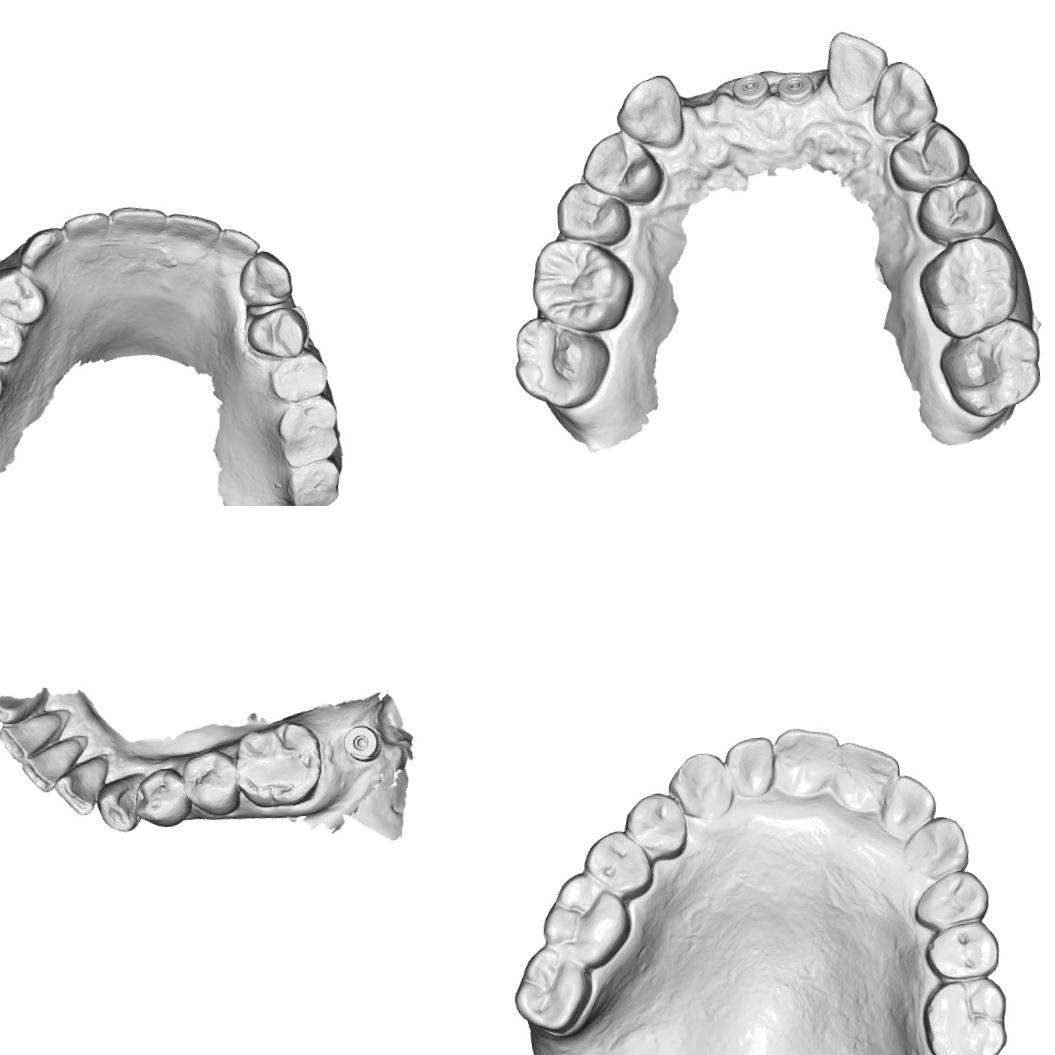canine: (612, 71, 686, 149), (866, 58, 938, 136), (666, 748, 737, 820), (900, 811, 970, 881), (92, 766, 150, 836), (234, 248, 294, 310), (15, 224, 69, 272)
implant: (342, 722, 381, 764), (778, 68, 816, 106), (734, 71, 768, 110)
incisor: (820, 25, 893, 108), (828, 732, 900, 808), (772, 724, 840, 795), (15, 734, 88, 794), (50, 756, 115, 818), (882, 770, 938, 836), (0, 709, 67, 761), (724, 732, 775, 796), (164, 207, 222, 247), (108, 202, 167, 236), (61, 204, 110, 242), (219, 224, 260, 258)
molar: (914, 234, 1024, 340), (526, 232, 638, 336), (938, 315, 1044, 423), (509, 310, 613, 412), (536, 867, 634, 974), (508, 938, 600, 1036), (232, 718, 326, 810), (920, 975, 1012, 1055), (274, 394, 344, 468), (282, 457, 344, 506)
premolar: (577, 127, 664, 210), (884, 116, 974, 192), (551, 175, 634, 248), (912, 175, 999, 244), (572, 826, 652, 899), (620, 786, 690, 864), (911, 866, 990, 934), (176, 746, 240, 818), (927, 921, 999, 983), (242, 304, 312, 362), (135, 768, 193, 830), (266, 352, 330, 403), (0, 263, 47, 327), (0, 300, 26, 366)
